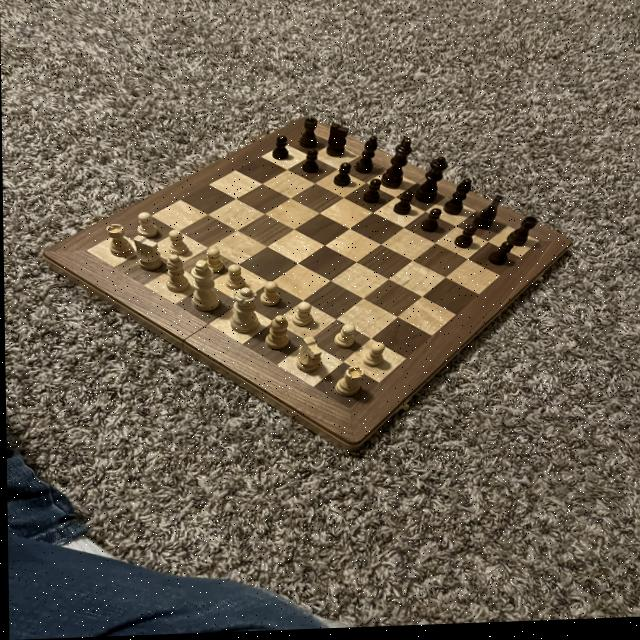bishop: (440, 181, 475, 224), (355, 136, 380, 179)
black-bishop: (378, 139, 416, 194)
black-king: (469, 197, 509, 236), (325, 125, 352, 162)
black-knight: (414, 209, 451, 236), (484, 244, 518, 273), (449, 226, 482, 251), (268, 136, 293, 167), (298, 149, 323, 179), (391, 191, 418, 218), (331, 163, 355, 190), (361, 180, 385, 207)
black-pawn: (413, 158, 450, 210)
black-queen: (502, 220, 541, 252), (296, 119, 321, 151)
black-rook: (260, 314, 292, 356), (164, 255, 191, 296)
white-bishop: (186, 255, 224, 317)
white-king: (132, 234, 165, 276), (293, 337, 324, 378)
white-knight: (359, 342, 390, 372), (201, 247, 228, 276), (289, 303, 315, 333), (222, 264, 247, 294), (165, 230, 191, 258), (135, 211, 160, 239), (258, 281, 281, 311), (333, 326, 356, 354)
white-pawn: (227, 289, 260, 339)
white-queen: (332, 366, 366, 403), (104, 222, 135, 262)
